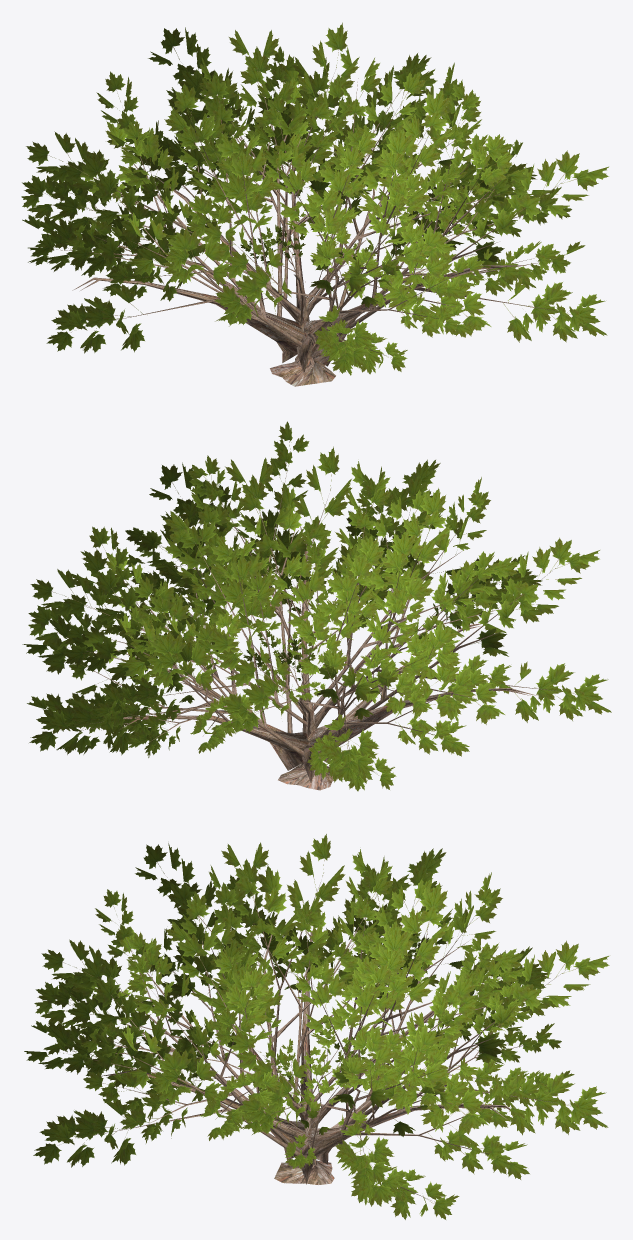
Rendered from bush10.obj.
3 renders of one model, top to bottom at view 1: azimuth 30°, elevation 25°; view 2: azimuth 150°, elevation 25°; view 3: azimuth 270°, elevation 25°, orthographic. The views are drawn at different scales.
Visible parts, largest first — view 1: leaf maple, bark02; view 2: leaf maple, bark02; view 3: leaf maple, bark02.
Boxes of the visible parts, box(x1,y1,x2,y2) form: leaf maple: box(21, 22, 608, 375); bark02: box(56, 68, 567, 386); leaf maple: box(22, 421, 611, 791); bark02: box(68, 466, 562, 790); leaf maple: box(24, 834, 609, 1219); bark02: box(65, 877, 570, 1200).
Bounding box in the file's own units: 320 × 165 × 304.
2 materials, 2 textured.
